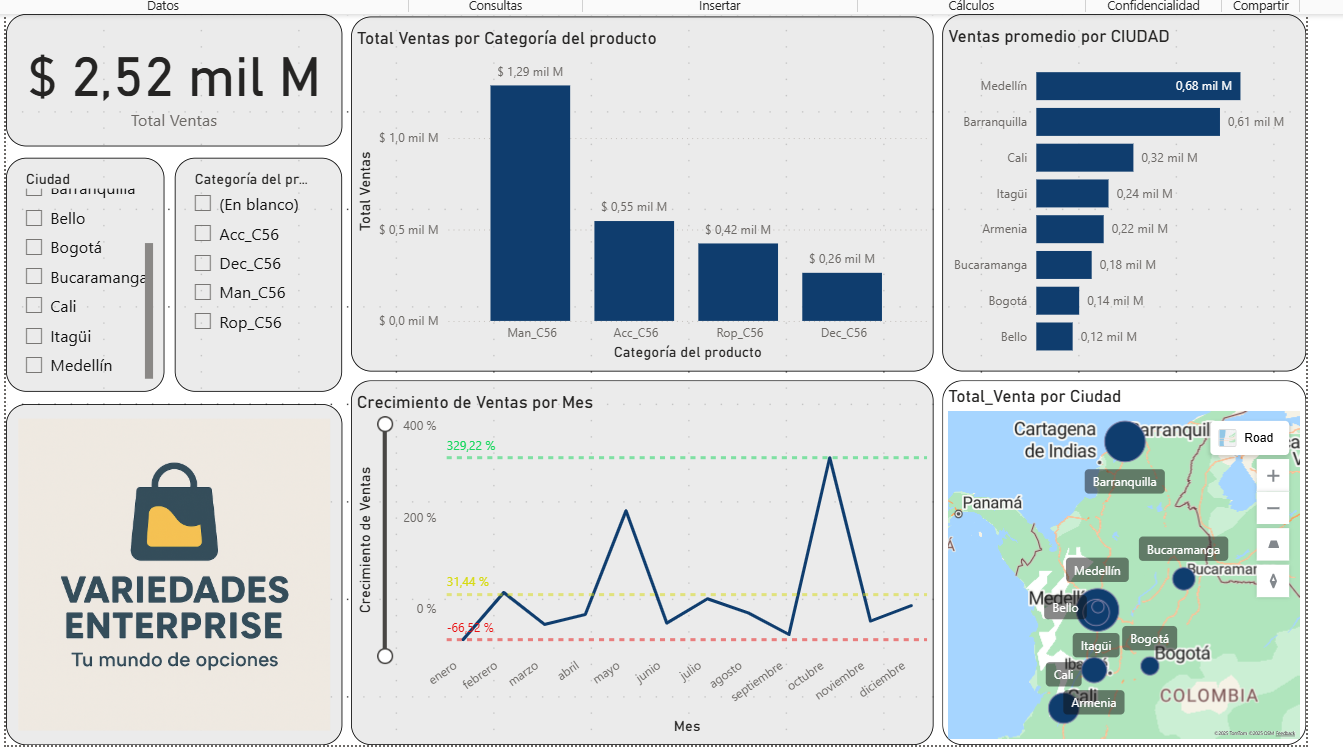

The dashboard page shown, as its layout file describes it:
{"tool":"powerbi","page":{"name":"Página 1","canvas":[1280,720],"ordinal":0},"visuals":[{"type":"card","fields":{"Values":["Medidas.Total Ventas"]},"box":[0,0,331.1,130.5],"z":0},{"type":"clusteredBarChart","fields":{"Category":["Ciudades.CIUDAD"],"Y":["Medidas.Ventas promedio por ciudad"]},"box":[921.8,0,358.2,352],"z":1000},{"type":"columnChart","fields":{"Category":["Ventas.Categoría del producto"],"Y":["Medidas.Total Ventas"]},"box":[339.7,2.5,573.5,349.5],"z":2000},{"type":"slicer","fields":{"Values":["Ventas.Ciudad"]},"box":[0,141.5,156.3,230.2],"z":3000},{"type":"slicer","fields":{"Values":["Ventas.Categoría del producto"]},"box":[166.2,141.5,164.9,230.2],"z":4000},{"type":"azureMap","fields":{"Category":["Ventas.Ciudad"],"Size":["Ventas.Total_Venta_2"]},"box":[921.8,360.6,358.2,359.4],"z":5000},{"type":"lineChart","fields":{"Category":["Ventas.Fecha.Variación.Jerarquía de fechas.Mes"],"Y":["Medidas.Crecimiento de Ventas"]},"box":[339.7,360.6,573.5,359.4],"z":6000},{"type":"image","box":[0,384,331.1,336],"z":6001}]}

Visuals, with their boxes in screenshot pixels (x1, y1, x2, y2):
card - Medidas.Total Ventas: bbox(21, 24, 351, 155)
clusteredBarChart - Ciudades.CIUDAD x Medidas.Ventas promedio por ciudad: bbox(941, 24, 1298, 376)
columnChart - Ventas.Categoría del producto x Medidas.Total Ventas: bbox(360, 27, 932, 376)
slicer - Ventas.Ciudad: bbox(21, 166, 177, 395)
slicer - Ventas.Categoría del producto: bbox(187, 166, 351, 395)
azureMap - Ventas.Ciudad x Ventas.Total_Venta_2: bbox(941, 384, 1298, 743)
lineChart - Ventas.Fecha.Variación.Jerarquía de fechas.Mes x Medidas.Crecimiento de Ventas: bbox(360, 384, 932, 743)
image: bbox(21, 408, 351, 743)
